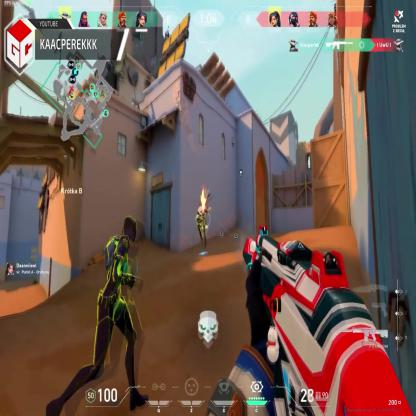enemy: (46, 204, 150, 409)
enemy_head: (122, 213, 137, 243)
